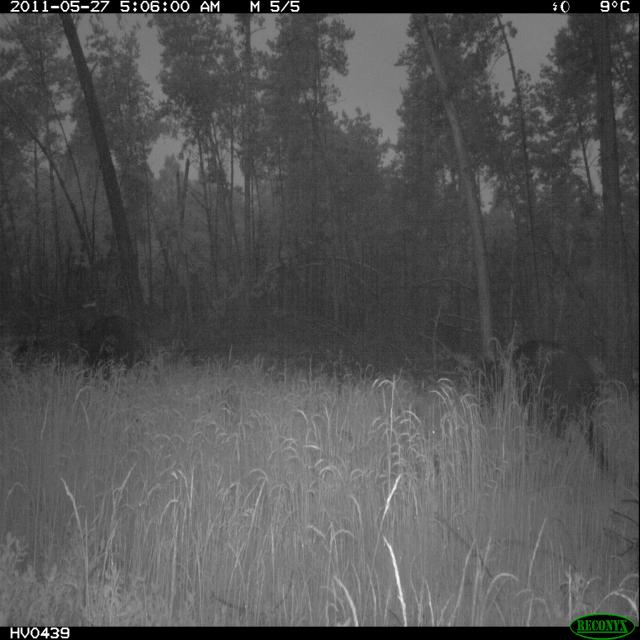boar: (466, 291, 628, 494), (0, 275, 155, 423)
